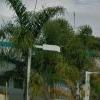Palm tree: (12, 4, 42, 90)
